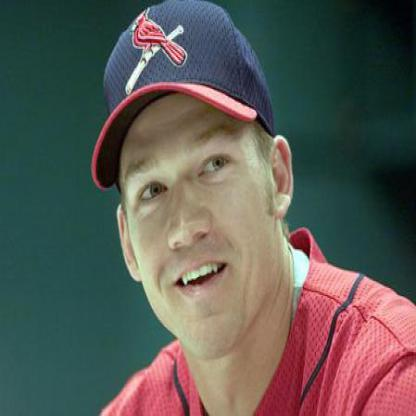face: (119, 5, 274, 364)
